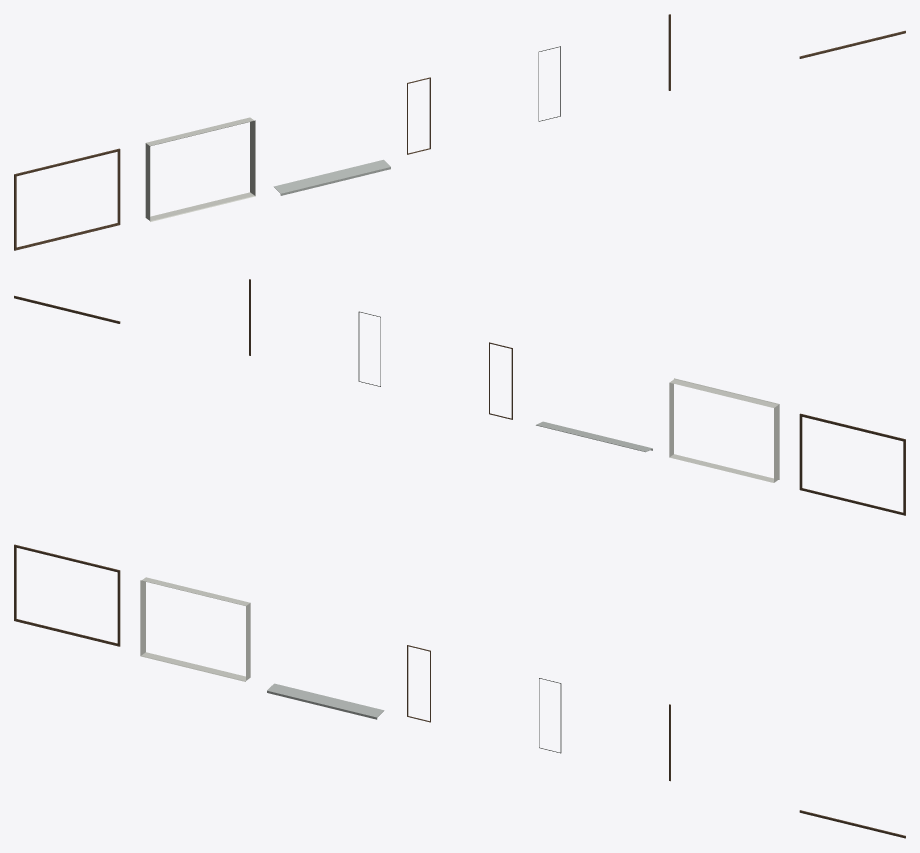
File: window-kit-profiles-highest.glb
3 renders of one model, top to bottom at view 1: azimuth 30°, elevation 25°; view 2: azimuth 150°, elevation 25°; view 3: azimuth 330°, elevation 25°, orthographic.
Parts seen in each view (by area): view 1: reveal.001, sill.001, outerFrame.001; view 2: reveal.001, outerFrame.001, sill.001; view 3: reveal.001, sill.001, outerFrame.001.
Boxes of the visible parts, left/top/right/bottom form: reveal.001: left=145, top=117, right=255, bottom=221; sill.001: left=274, top=159, right=390, bottom=195; outerFrame.001: left=14, top=148, right=120, bottom=250; reveal.001: left=669, top=378, right=779, bottom=482; outerFrame.001: left=799, top=413, right=905, bottom=515; sill.001: left=536, top=421, right=652, bottom=452; reveal.001: left=140, top=577, right=250, bottom=681; sill.001: left=267, top=683, right=384, bottom=719; outerFrame.001: left=14, top=544, right=120, bottom=646.
Bounding box in the file's own units: 18.38 × 1.57 × 0.263.
